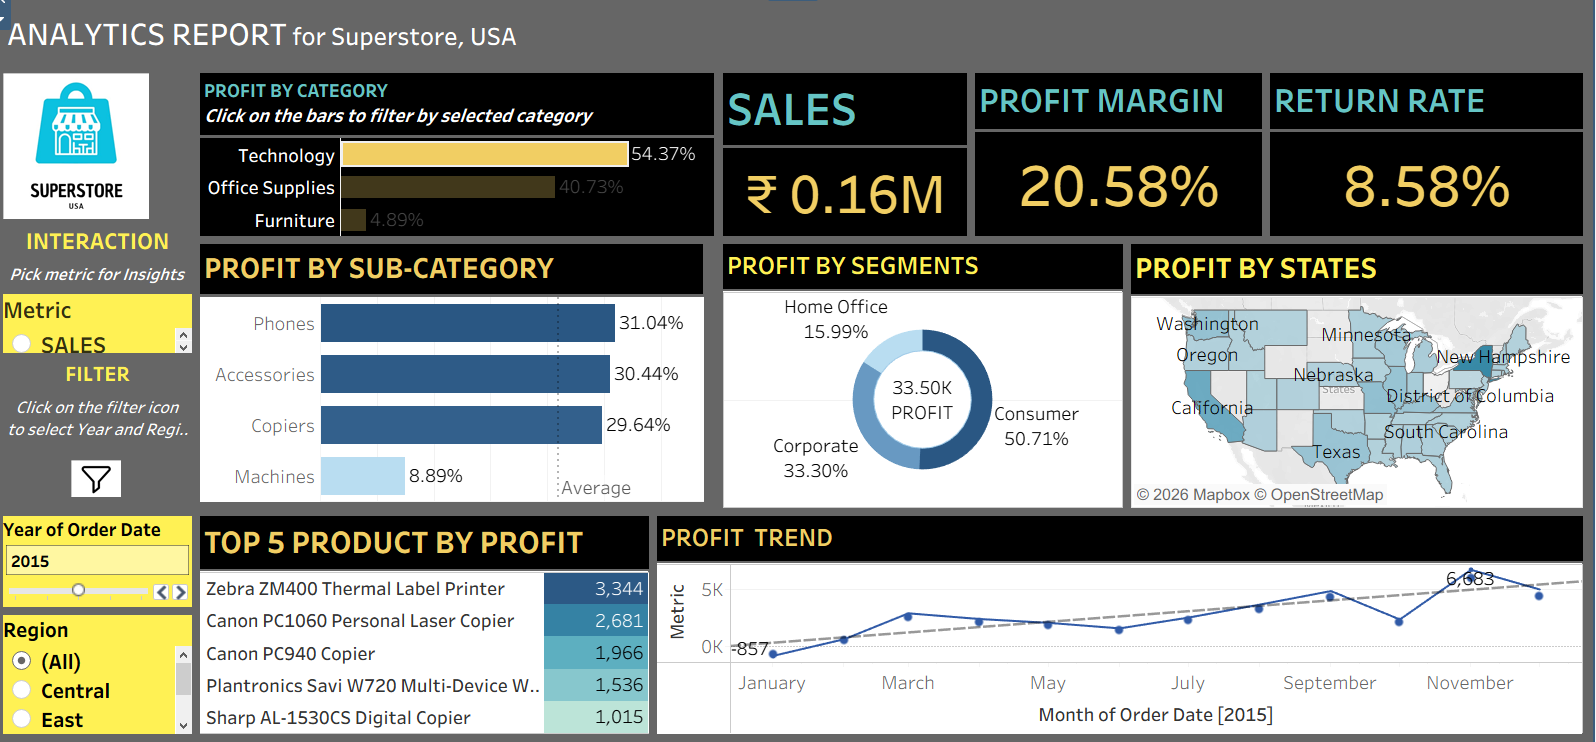

Layout of this report page (visuals, bound fields, positions):
{"tool":"tableau","page":{"name":"Dashboard 2","canvas":[1000,1000],"units":"permille","ordinal":1},"visuals":[{"type":"text","box":[5,10.6,990,96.3]},{"type":"image","param":"Image/LOGO.jpg","box":[5,106.8,123,203.2]},{"type":"worksheet","title":"Category","mark":"Automatic","rows":["Category"],"cols":["Calculation_0575906251874306"],"box":[128,106.8,325.7,225.6]},{"type":"worksheet","title":"Sales","mark":"Automatic","box":[453.7,106.8,157.2,225.6]},{"type":"worksheet","title":"Profit Margin","mark":"Automatic","box":[610.9,106.8,183.9,225.6]},{"type":"worksheet","title":"Return Rate","mark":"Automatic","box":[794.8,106.8,200.2,225.6]},{"type":"text","box":[5,310,123,46.2]},{"type":"worksheet","title":"Sub-Category","mark":"Automatic","rows":["Sub-Category"],"cols":["Calculation_0575906251874306"],"box":[128,332.4,325.9,358.8]},{"type":"worksheet","title":"Pie Segment","mark":"Pie","rows":["Calculation_0575906256556035","Calculation_0575906256556035"],"box":[453.9,332.4,254.3,358.8]},{"type":"worksheet","title":"Map","mark":"Automatic","box":[708.2,332.4,286.8,358.8]},{"type":"text","box":[5,356.2,123,42.2]},{"type":"parameter","param":"[Parameters].[Parameter 1]","box":[5,398.4,123,88.4]},{"type":"text","box":[5,486.8,123,42.2]},{"type":"text","box":[5,529,123,76.5]},{"type":"dashboard-object","box":[34,622.7,62.5,48.8]},{"type":"filter","title":"Line","param":"[federated.0z6scup1p6dacf1bbd5zg0q88a74].[yr:Order Date:ok]","box":[5,691.2,123,130.6]},{"type":"worksheet","title":"Top 5 Product","mark":"Square","rows":["Product Name"],"box":[128,691.2,285,298.2]},{"type":"worksheet","title":"Line","mark":"Line","rows":["Calculation_0575906251874306","Calculation_0575906251874306"],"cols":["Order Date"],"box":[413,691.2,582,298.2]},{"type":"filter","title":"Sub-Category","param":"[federated.0z6scup1p6dacf1bbd5zg0q88a74].[none:Region:nk]","box":[5,821.9,123,167.6]}]}

Visuals, with their boxes on the dashboard's canvas, which has no fixed pixel size, in thousandths of its width and height (x1, y1, x2, y2). These are canvas units, not pixel positions in the 1596x742 screenshot, which may show the page scaled, cropped or inside an application window:
text: 5,11,995,107
image: 5,107,128,310
"Category" worksheet: 128,107,454,332
"Sales" worksheet: 454,107,611,332
"Profit Margin" worksheet: 611,107,795,332
"Return Rate" worksheet: 795,107,995,332
text: 5,310,128,356
"Sub-Category" worksheet: 128,332,454,691
"Pie Segment" worksheet (Pie marks): 454,332,708,691
"Map" worksheet: 708,332,995,691
text: 5,356,128,398
parameter: 5,398,128,487
text: 5,487,128,529
text: 5,529,128,606
dashboard-object: 34,623,96,672
"Line" filter: 5,691,128,822
"Top 5 Product" worksheet (Square marks): 128,691,413,989
"Line" worksheet (Line marks): 413,691,995,989
"Sub-Category" filter: 5,822,128,990
